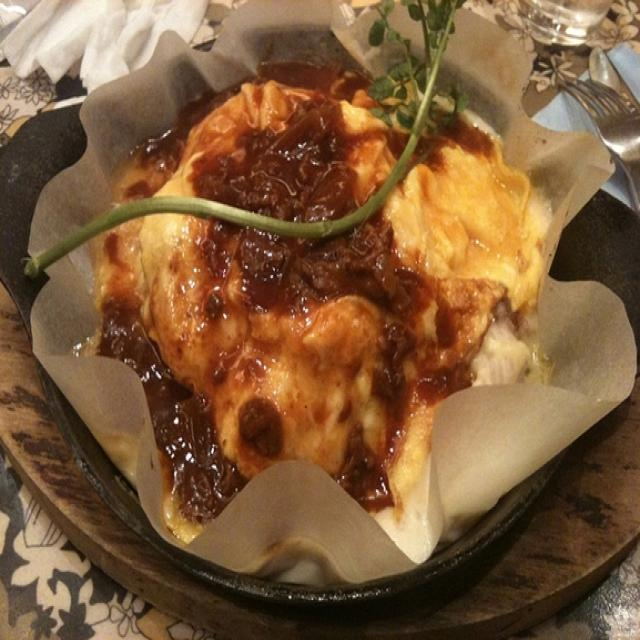米饭主食: (21, 28, 616, 591)
